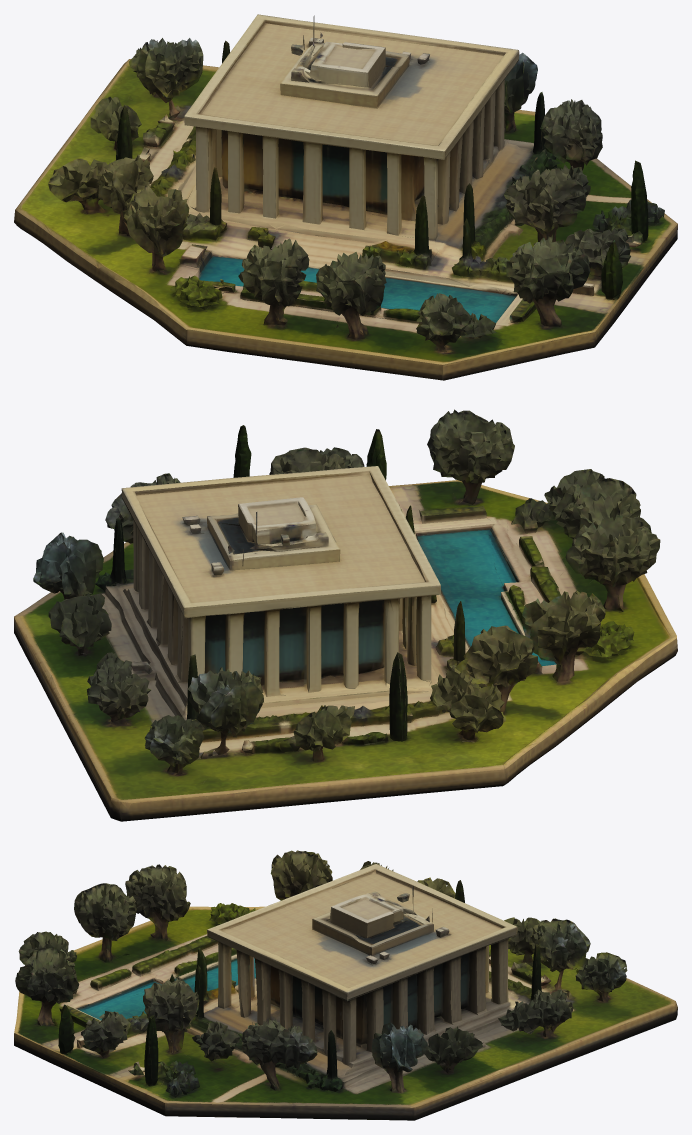
Rendered from lm_knesset.glb.
3 views of the same model, one above another, from view 1: azimuth 30°, elevation 25°; view 2: azimuth 150°, elevation 25°; view 3: azimuth 270°, elevation 25° (orthographic). The views are drawn at different scales.
Visible parts, largest first — view 1: geometry_0; view 2: geometry_0; view 3: geometry_0.
Part boxes in pixels (left/top/right/bottom): geometry_0: left=14, top=14, right=677, bottom=380; geometry_0: left=14, top=409, right=677, bottom=821; geometry_0: left=14, top=850, right=677, bottom=1120.
Size of the model in its own units: 0.7823 by 0.257 by 1.08.
Materials: 1 (1 with a texture image).
